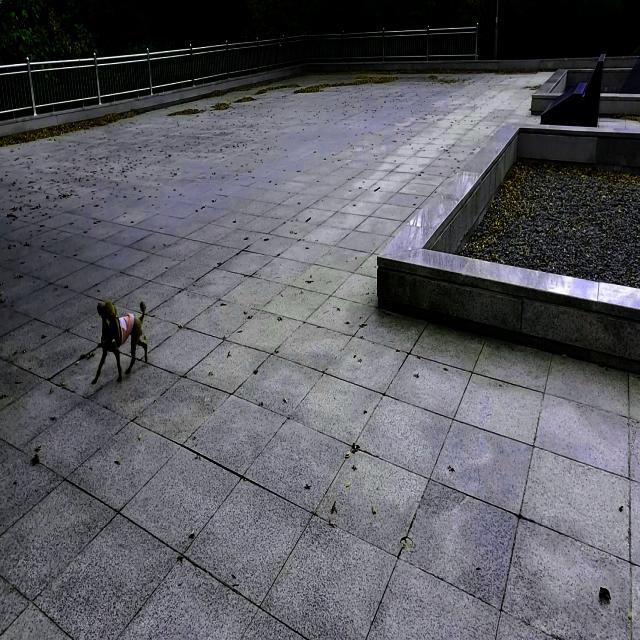Dog: (91, 300, 148, 384)
